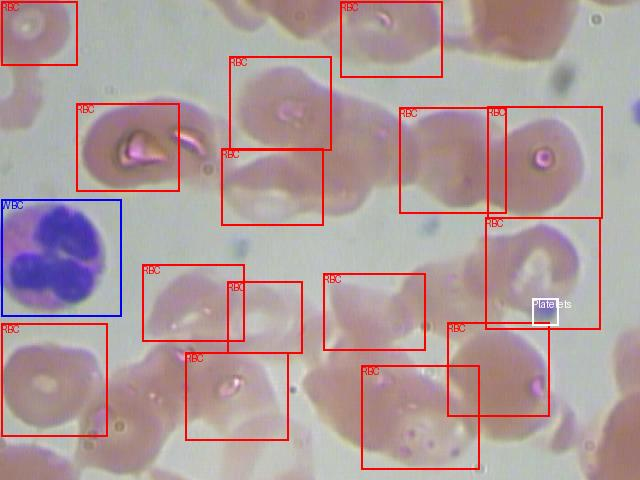Platelets: (532, 298, 558, 325)
RBC: (487, 106, 602, 218), (485, 217, 600, 329), (361, 365, 479, 469), (1, 323, 107, 436), (399, 107, 506, 213), (447, 322, 549, 416), (229, 56, 331, 150), (185, 352, 288, 440), (76, 103, 179, 191), (323, 273, 425, 350), (142, 264, 244, 341), (221, 148, 323, 225), (340, 1, 442, 77), (227, 281, 302, 353), (1, 1, 77, 65)
WBC: (1, 199, 121, 316)
